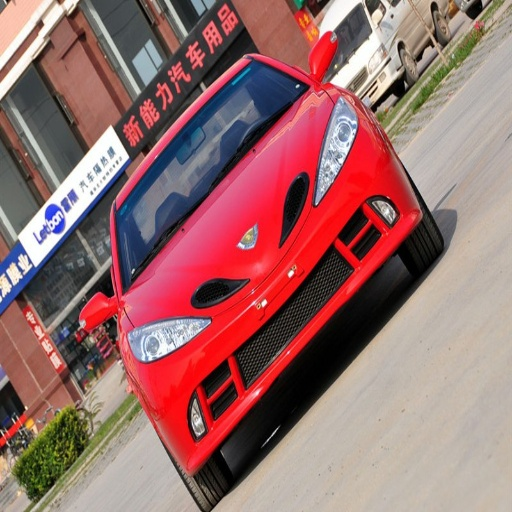front_bumper: (131, 172, 412, 467), (212, 151, 277, 228)
front_right_light: (130, 323, 182, 359)
trunk: (290, 112, 328, 171)
